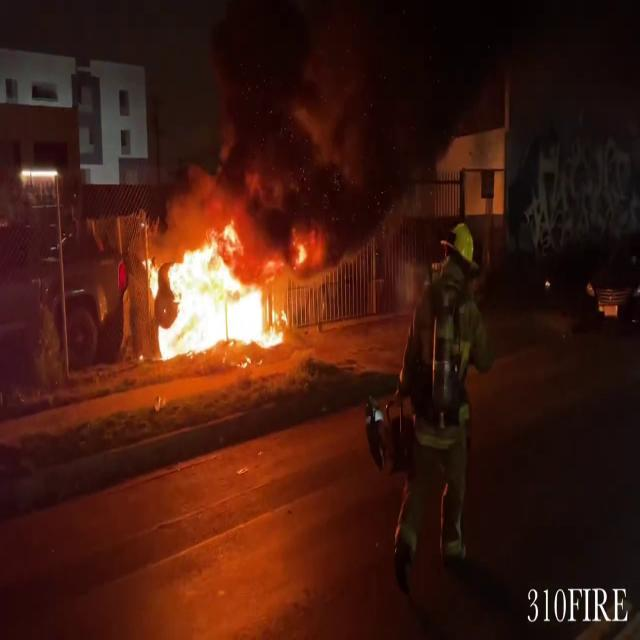Fire: (143, 220, 291, 366)
